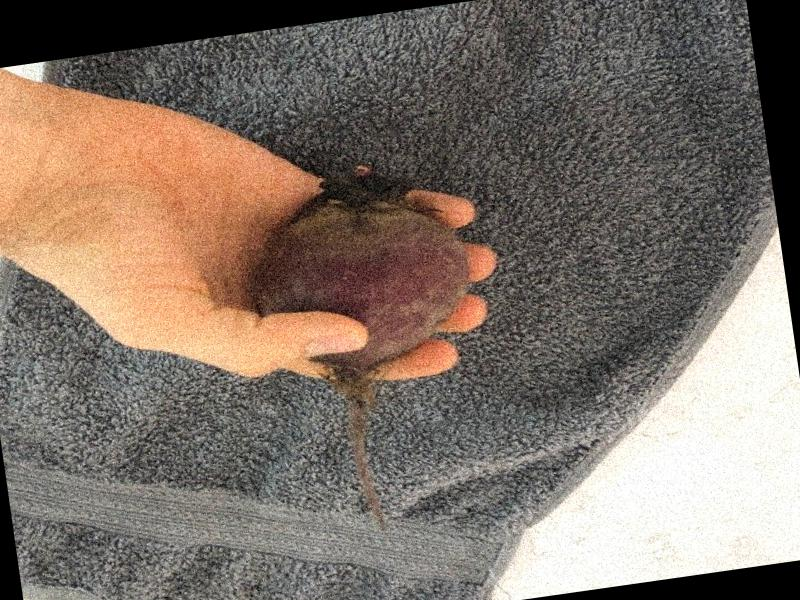Beet: (239, 160, 506, 543)
